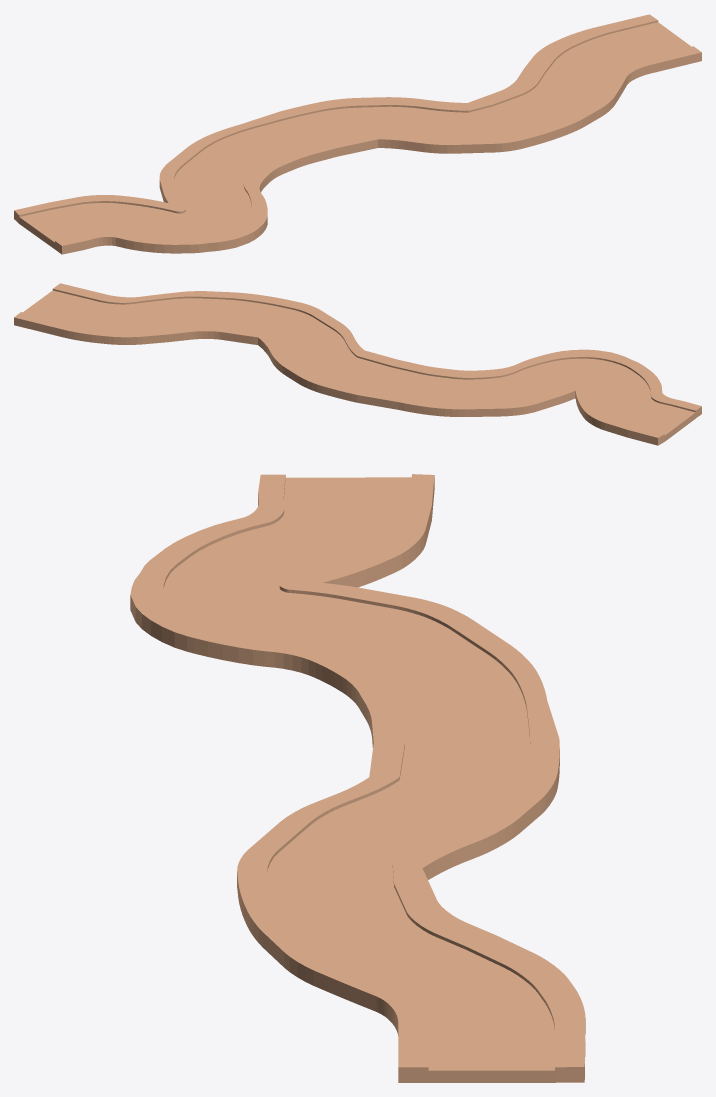
The model's file is dereKenariModel1.fbx.
3 views of the same model, one above another, from view 1: azimuth 30°, elevation 25°; view 2: azimuth 150°, elevation 25°; view 3: azimuth 270°, elevation 25° (orthographic). The views are drawn at different scales.
Parts seen in each view (by area): view 1: Cube.001; view 2: Cube.001; view 3: Cube.001.
Part boxes in pixels (<box>): Cube.001: <box>14,14,701,254</box>; Cube.001: <box>14,283,701,445</box>; Cube.001: <box>130,474,585,1082</box>.
Size of the model in its own units: 22.2 by 0.2734 by 7.2.
